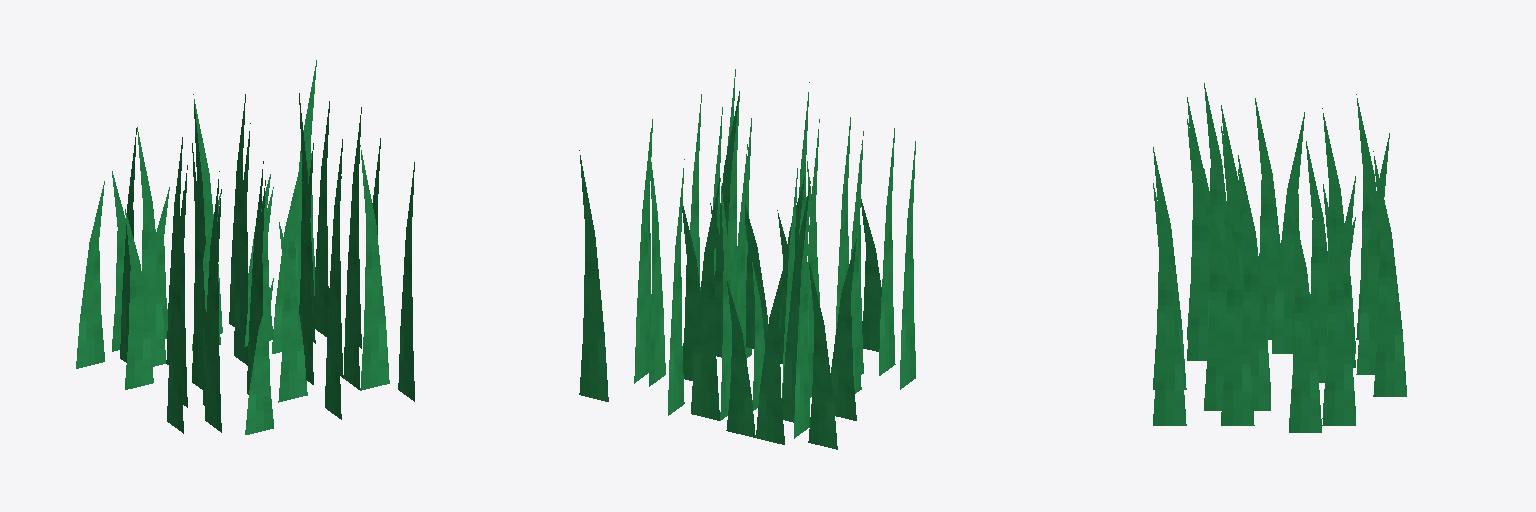
The picture shows the model from 3 angles: view 1: azimuth 30°, elevation 25°; view 2: azimuth 150°, elevation 25°; view 3: azimuth 270°, elevation 25°; orthographic projection.
Parts seen in each view (by area): view 1: Blade; view 2: Blade; view 3: Blade.
Boxes of the visible parts, x1,y1,x2,y2 form: Blade: [76, 60, 414, 434]; Blade: [579, 69, 915, 449]; Blade: [1153, 83, 1406, 432].
Size of the model in its own units: 1.06 by 1 by 0.9375.
Materials: 1 (1 with a texture image).